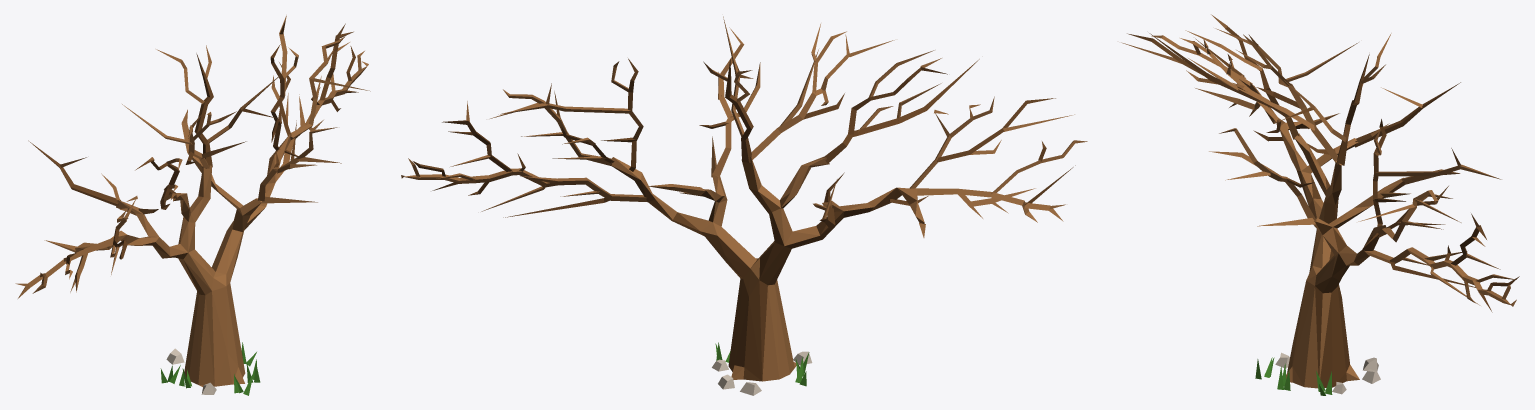
Rendered from acacia_bare.glb.
3 views of the same model, side by side, from view 1: azimuth 30°, elevation 25°; view 2: azimuth 150°, elevation 25°; view 3: azimuth 270°, elevation 25° (orthographic). The views are drawn at different scales.
Parts seen in each view (by area): view 1: acacia_bare; view 2: acacia_bare; view 3: acacia_bare.
Boxes of the visible parts, x1,y1,x2,y2 form: acacia_bare: (15, 15, 370, 395); acacia_bare: (401, 16, 1087, 395); acacia_bare: (1121, 14, 1519, 395).
Bounding box in the file's own units: 10.96 × 6.66 × 7.34.
